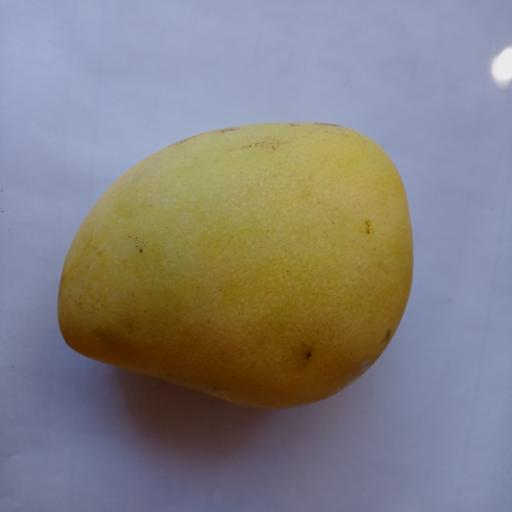mango-ripe: (31, 86, 438, 441)
